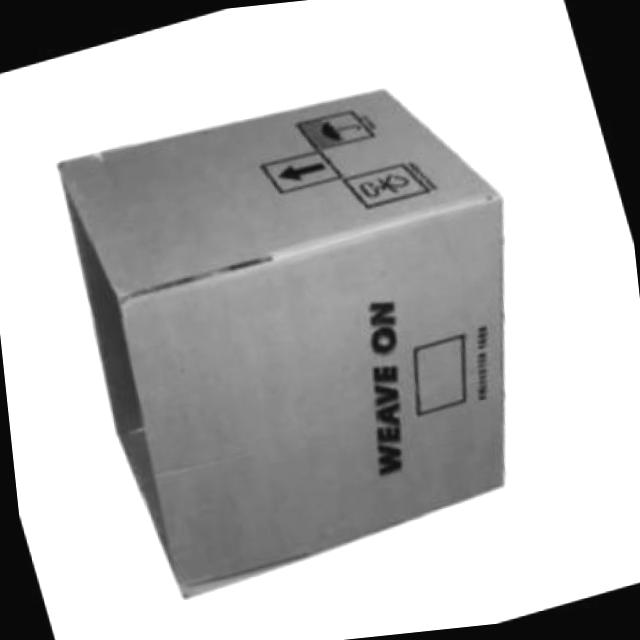box: (23, 31, 596, 617)
